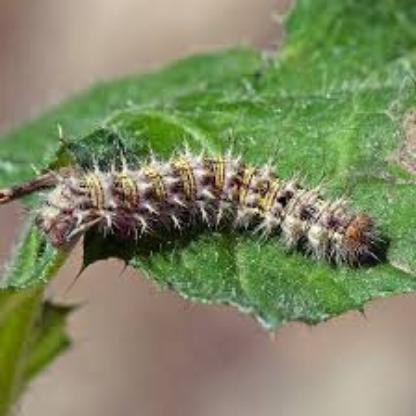oruga: (27, 148, 398, 276)
